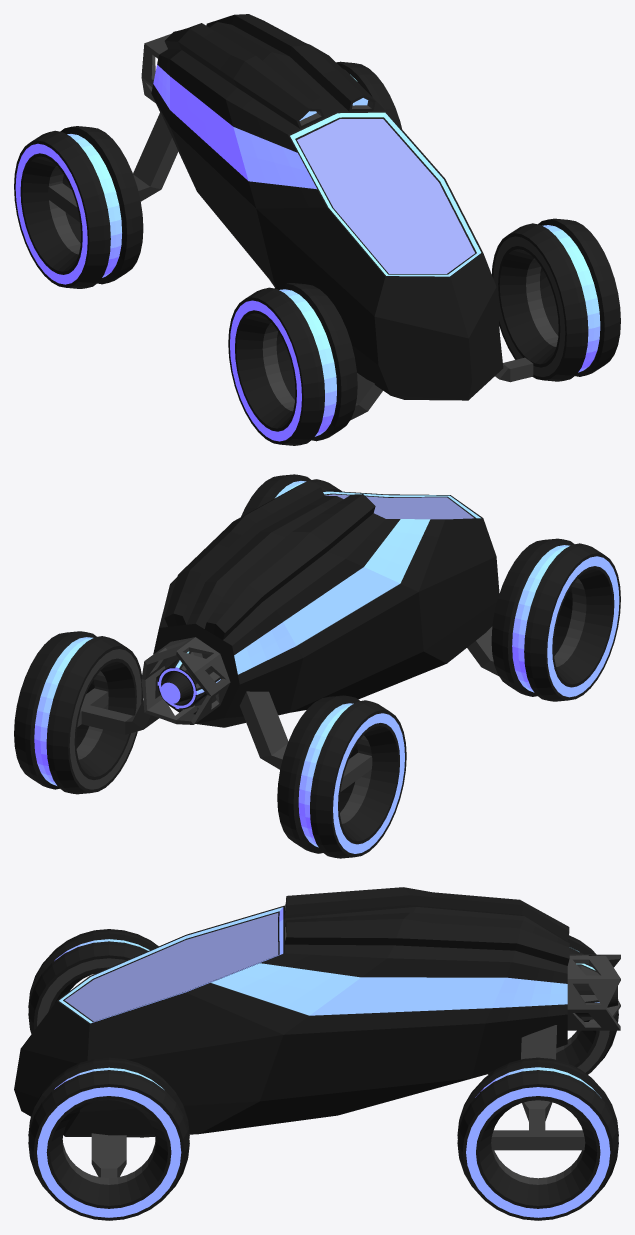
File: FutureCarFinalFixedV2.fbx
3 views of the same model, one above another, from view 1: azimuth 30°, elevation 25°; view 2: azimuth 150°, elevation 25°; view 3: azimuth 270°, elevation 25° (orthographic).
Visible parts, largest first — view 1: CarBody, WheelMesh.001, WheelMesh, WheelMesh.003, WheelConnection.002, WheelMesh.002, WheelConnection.001, WheelConnection; view 2: CarBody, WheelMesh.001, WheelMesh.003, WheelMesh.002, WheelConnection.002, WheelConnection.003, Thruster, WheelMesh, WheelConnection.001; view 3: CarBody, WheelMesh, WheelMesh.002, WheelMesh.001, WheelConnection.003, WheelMesh.003, WheelConnection, Thruster.
Boxes of the visible parts, x1,y1,x2,y2 form: CarBody: [141, 14, 503, 400]; WheelMesh.001: [228, 283, 357, 445]; WheelMesh: [492, 218, 620, 381]; WheelMesh.003: [14, 126, 143, 288]; WheelConnection.002: [48, 112, 178, 222]; WheelMesh.002: [336, 61, 401, 128]; WheelConnection.001: [350, 373, 382, 420]; WheelConnection: [495, 357, 533, 382]; CarBody: [141, 480, 499, 727]; WheelMesh.001: [491, 538, 620, 701]; WheelMesh.003: [277, 695, 406, 858]; WheelMesh.002: [14, 631, 142, 794]; WheelConnection.002: [239, 691, 372, 791]; WheelConnection.003: [77, 677, 160, 734]; Thruster: [157, 651, 220, 709]; WheelMesh: [241, 474, 341, 516]; WheelConnection.001: [467, 626, 498, 675]; CarBody: [14, 887, 620, 1137]; WheelMesh: [28, 1057, 189, 1220]; WheelMesh.002: [457, 1057, 618, 1220]; WheelMesh.001: [28, 929, 158, 1033]; WheelConnection.003: [491, 1025, 585, 1150]; WheelMesh.003: [488, 935, 618, 1074]; WheelConnection: [91, 1133, 126, 1178]; Thruster: [573, 963, 617, 1021].
Bounding box in the file's own units: 3.13 × 2.31 × 5.19.
